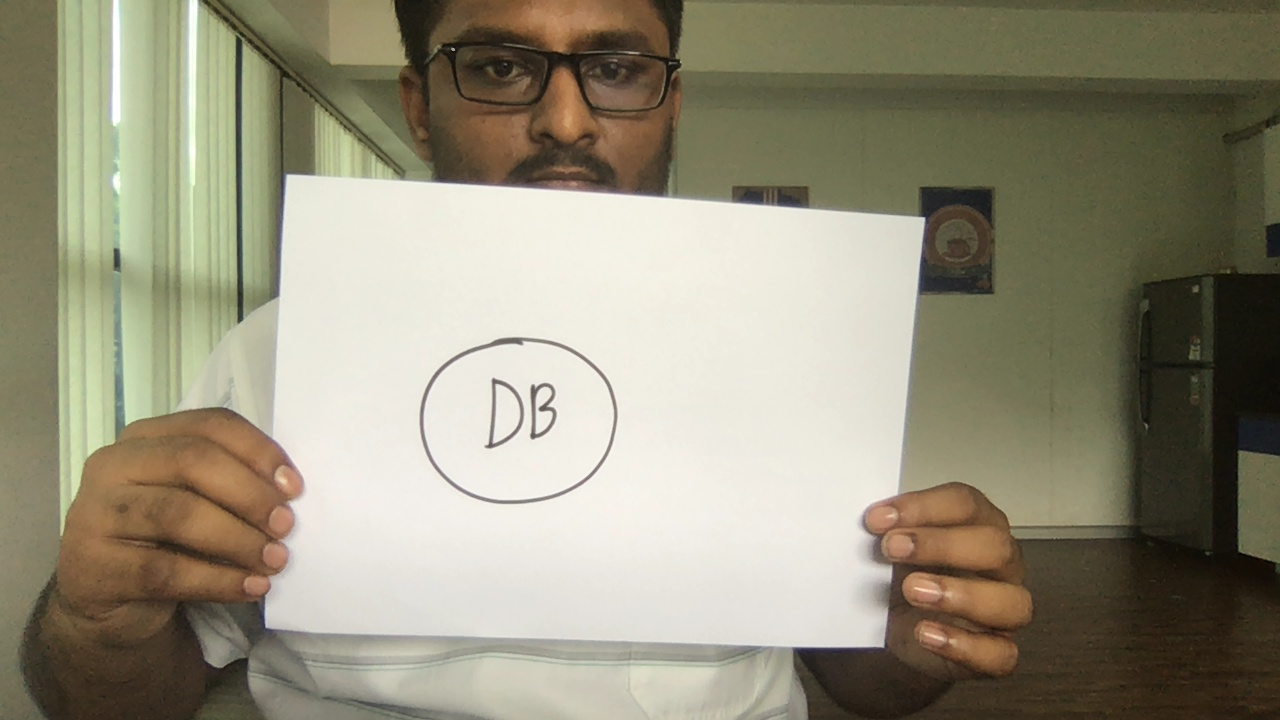db: (413, 326, 623, 512)
